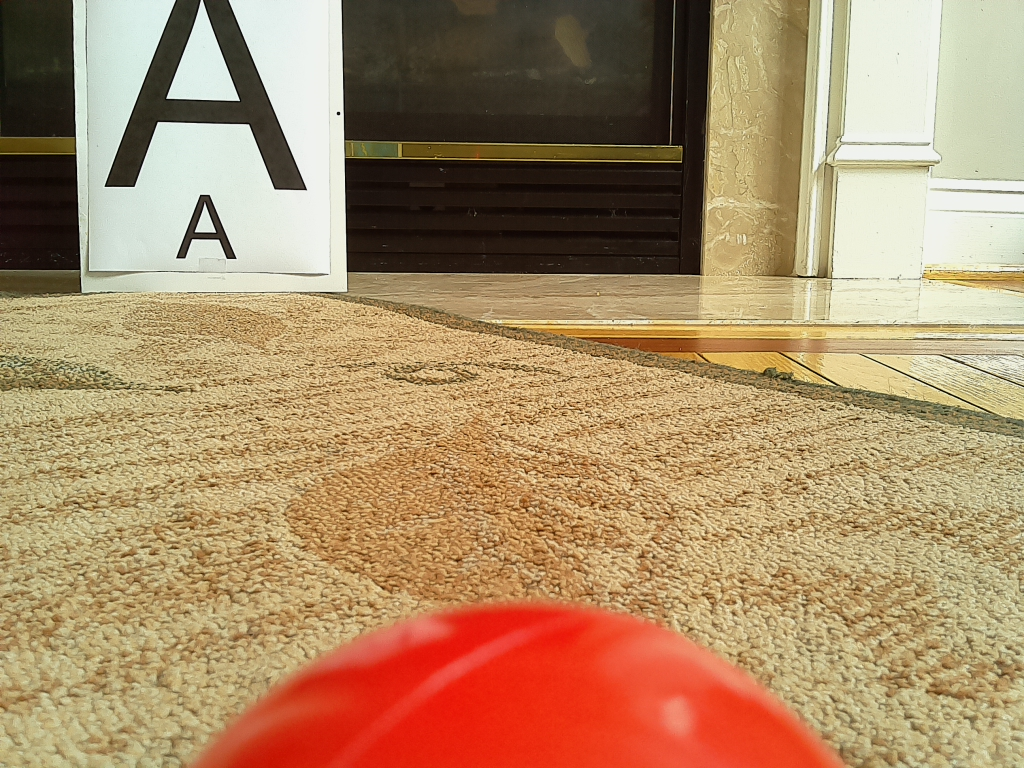letter: (105, 1, 311, 189)
